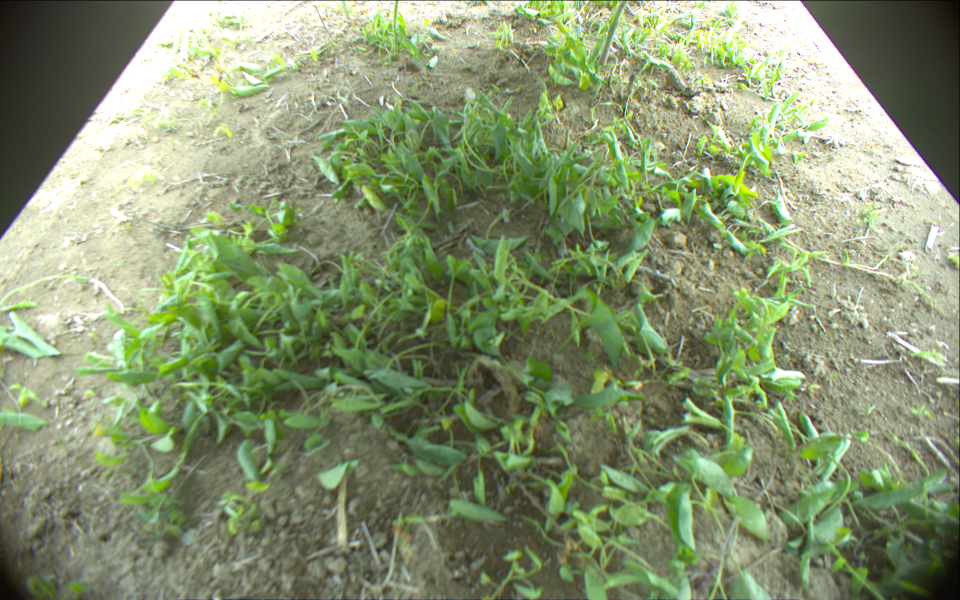aspa: (600, 1, 627, 67), (391, 1, 401, 51), (341, 1, 350, 22)
